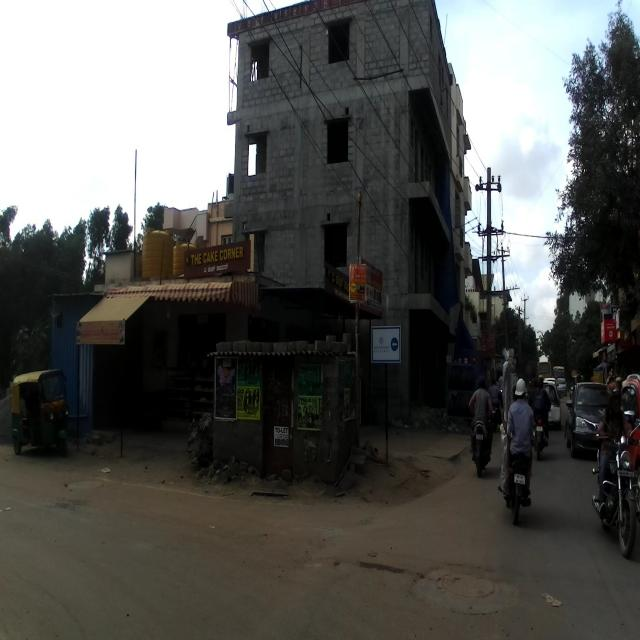autorickshaw: (10, 368, 70, 458)
motorcycle: (592, 406, 639, 558)
